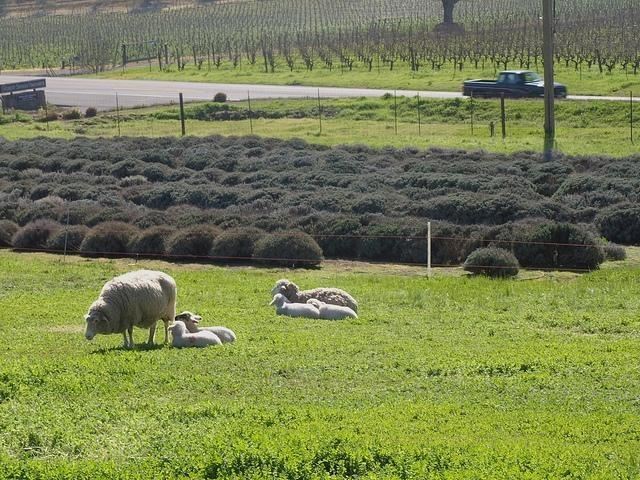truck: (462, 69, 568, 98)
